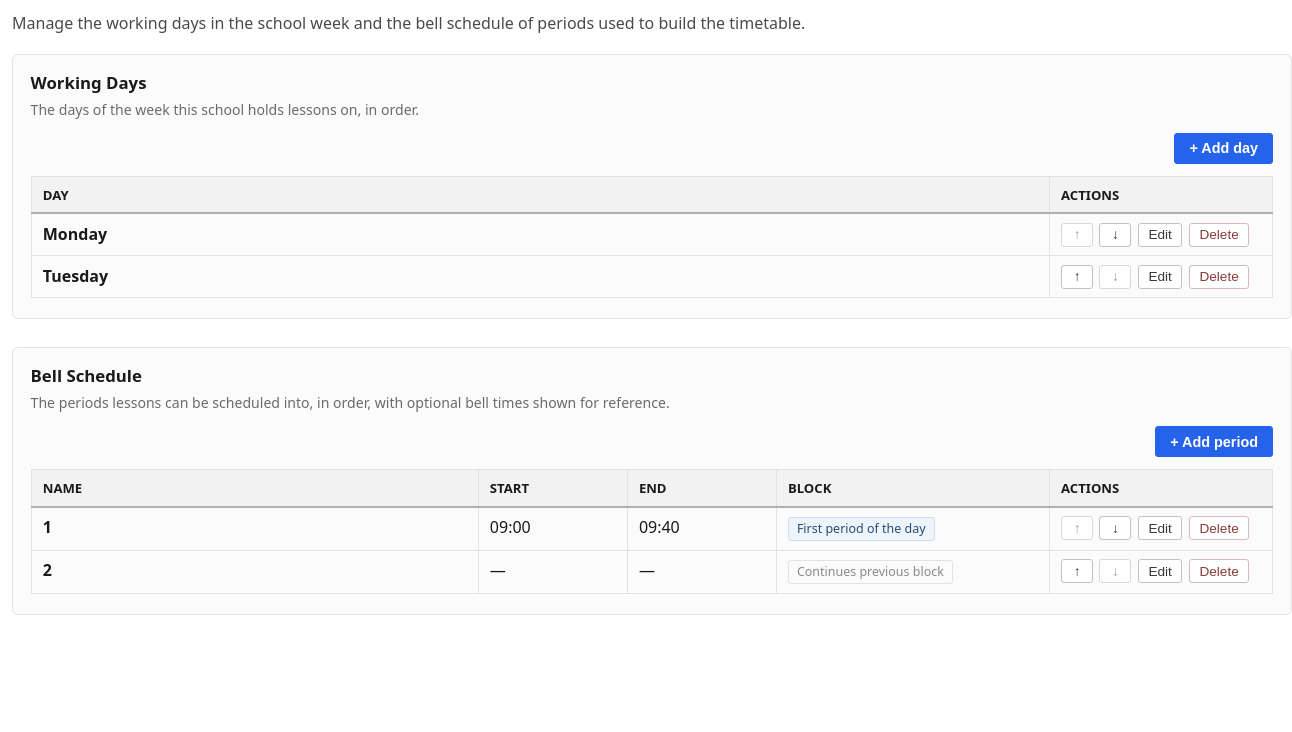
Test: CalendarBellSchedulePanel › Working Days › delete success removes the row after refetch
Expected: the column heading "Monday" is shown, [31,213,1049,256]
Click the button "Delete" in the row of "Monday" at (1219, 235), box [1189,223,1249,247]
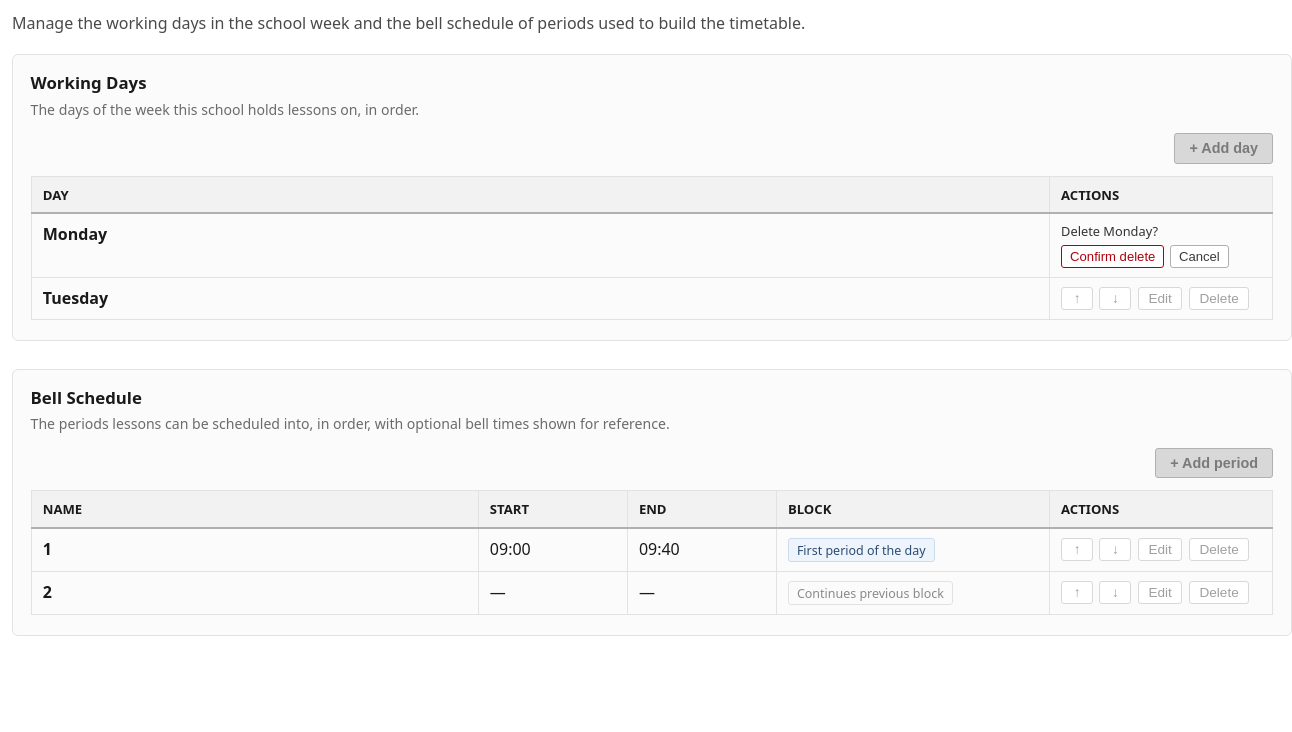
Click the button "Confirm delete" at (1113, 256), box [1061,245,1164,268]
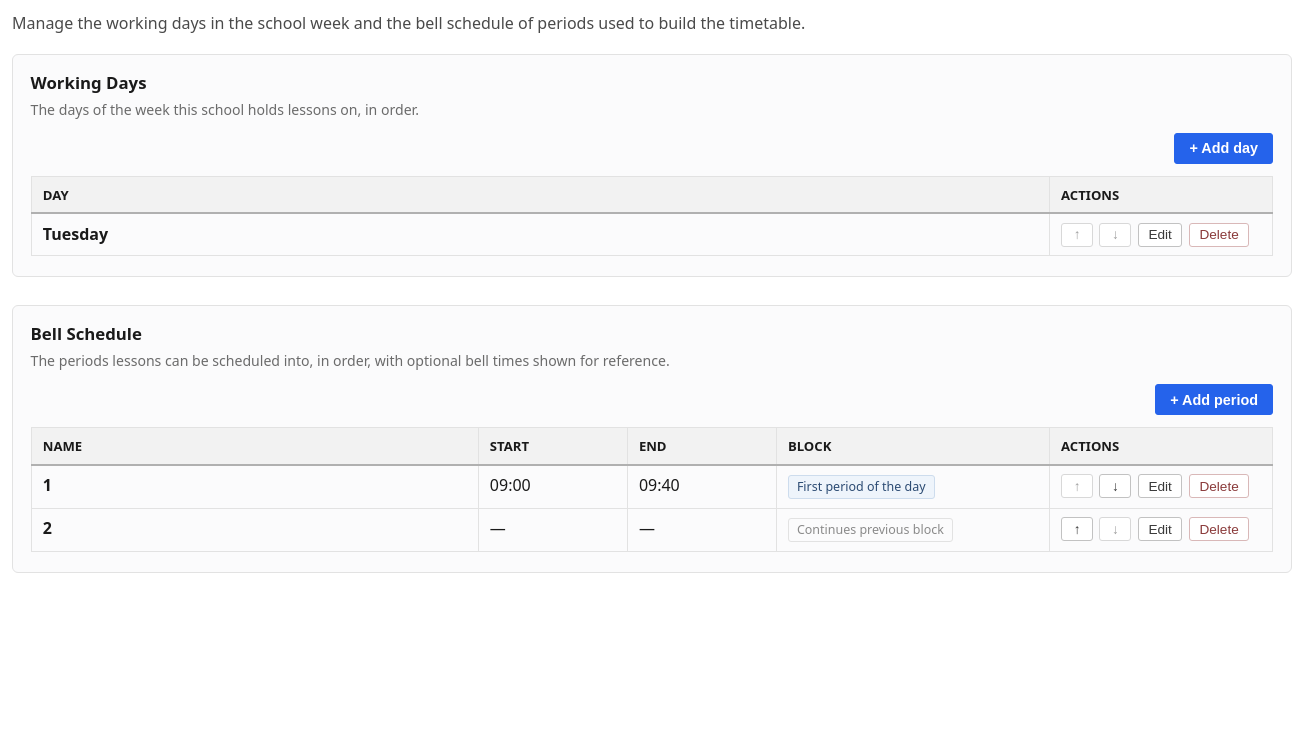
Expected: the column heading "Tuesday" is shown, [31,213,1049,256]
Expected: the column heading "Monday" is gone
